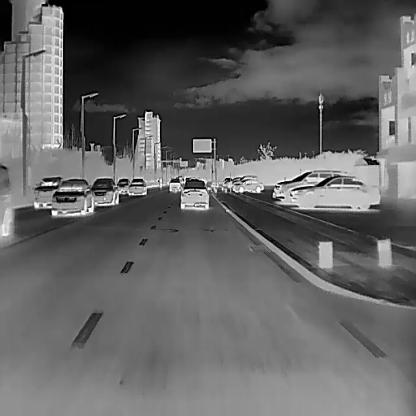car: (288, 173, 380, 211), (272, 169, 349, 197), (49, 180, 93, 216), (32, 176, 66, 208), (180, 178, 208, 210), (89, 176, 118, 206), (233, 178, 263, 192), (128, 176, 146, 196), (114, 176, 127, 192), (168, 177, 180, 192)
